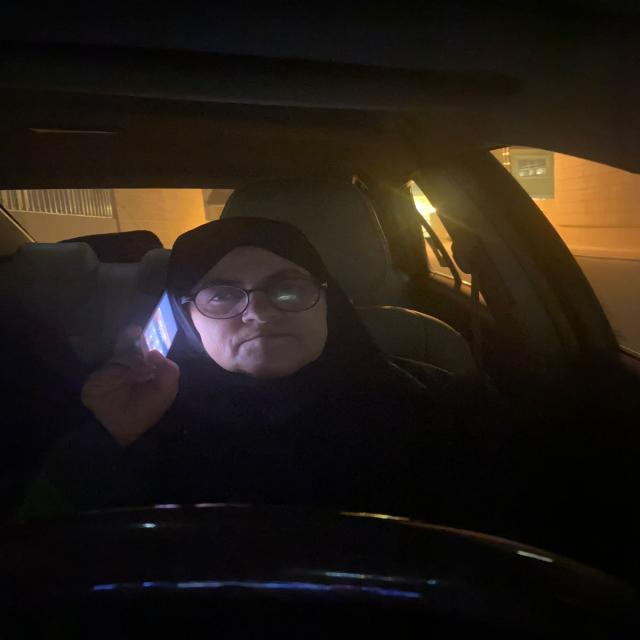mobile: (117, 289, 183, 368)
person: (169, 216, 350, 379)
